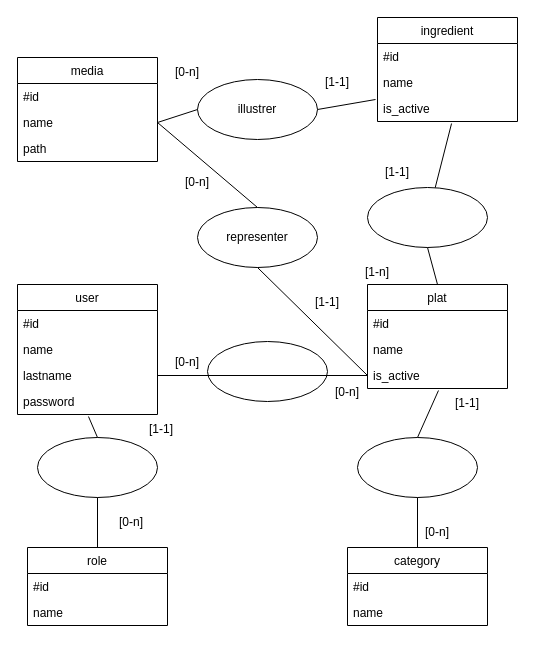
Image size: 535x646. Some labels were removed from this diagram. The shapes that lost their labels are listed below. From the top down, each one's centre as x and y in pixels, then its label:
(427,217): composer
(267,371): choisir
(97,467): avoir
(417,467): appartenir
